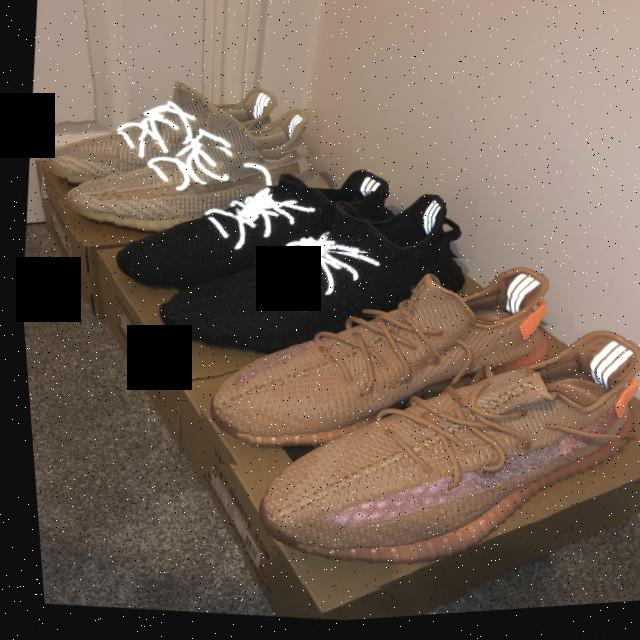shoe: (218, 291, 640, 630), (171, 227, 585, 511), (136, 165, 485, 399), (96, 126, 408, 339), (52, 83, 329, 273), (24, 56, 290, 228)
